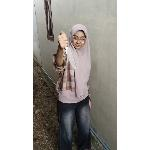Pisau: (58, 32, 77, 72)
